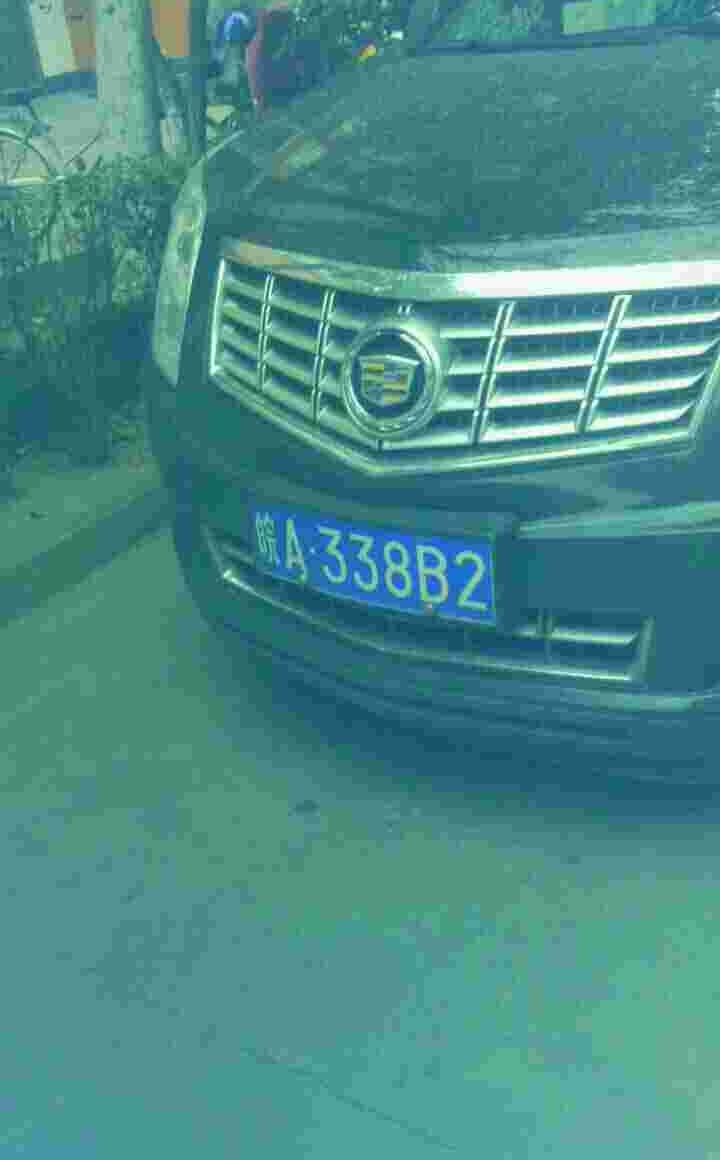license_plate: (251, 506, 497, 610)
